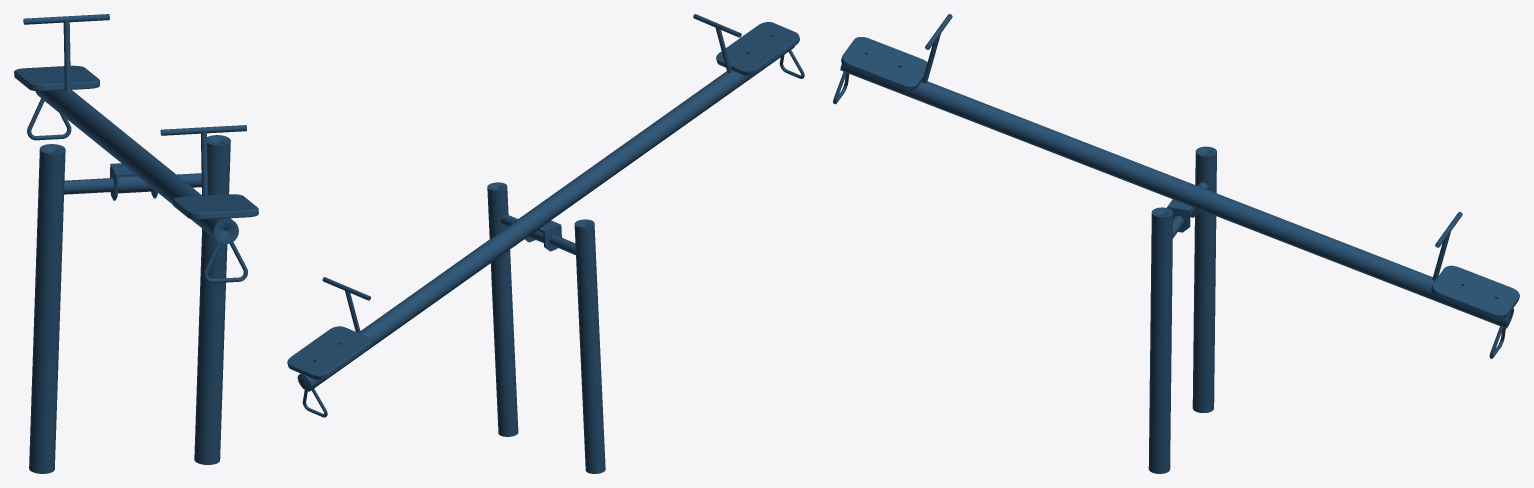
The model's file is seesaw.glb.
3 renders of one model, left to right at view 1: azimuth 30°, elevation 25°; view 2: azimuth 150°, elevation 25°; view 3: azimuth 270°, elevation 25°, orthographic. The views are drawn at different scales.
Visible parts, largest first — view 1: -DC_Brep (×13), NONE-DC_Shell; view 2: -DC_Brep (×5); view 3: -DC_Brep (×5).
Boxes of the visible parts, <box> form: -DC_Brep (×13): <box>14,14,258,473</box>; NONE-DC_Shell: <box>214,219,237,244</box>; -DC_Brep (×5): <box>287,22,799,473</box>; -DC_Brep (×5): <box>840,37,1519,473</box>.
Bounding box in the file's own units: 27838 × 44883 × 72412.
